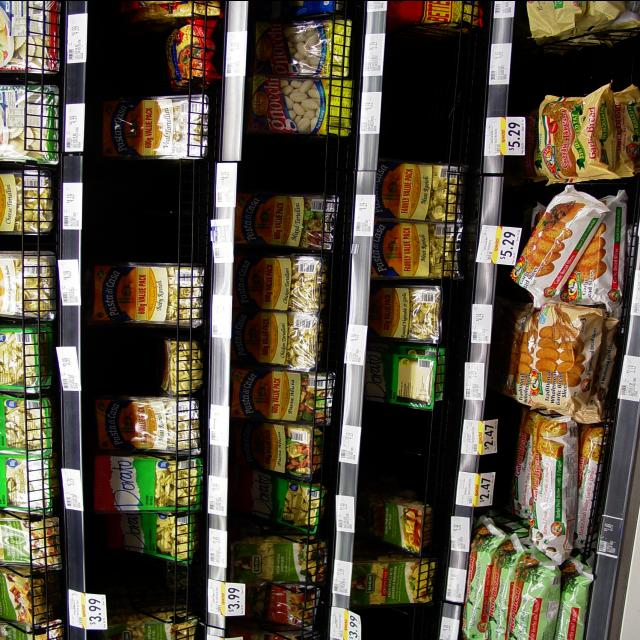empty_space: (390, 42, 476, 158), (110, 162, 206, 256), (248, 136, 352, 194), (371, 414, 441, 492), (547, 47, 640, 83), (115, 566, 183, 614), (101, 336, 162, 388), (366, 603, 434, 636)
